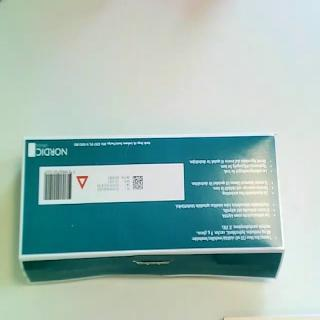metadon_hydrochlorid40mg: (17, 131, 287, 289)
